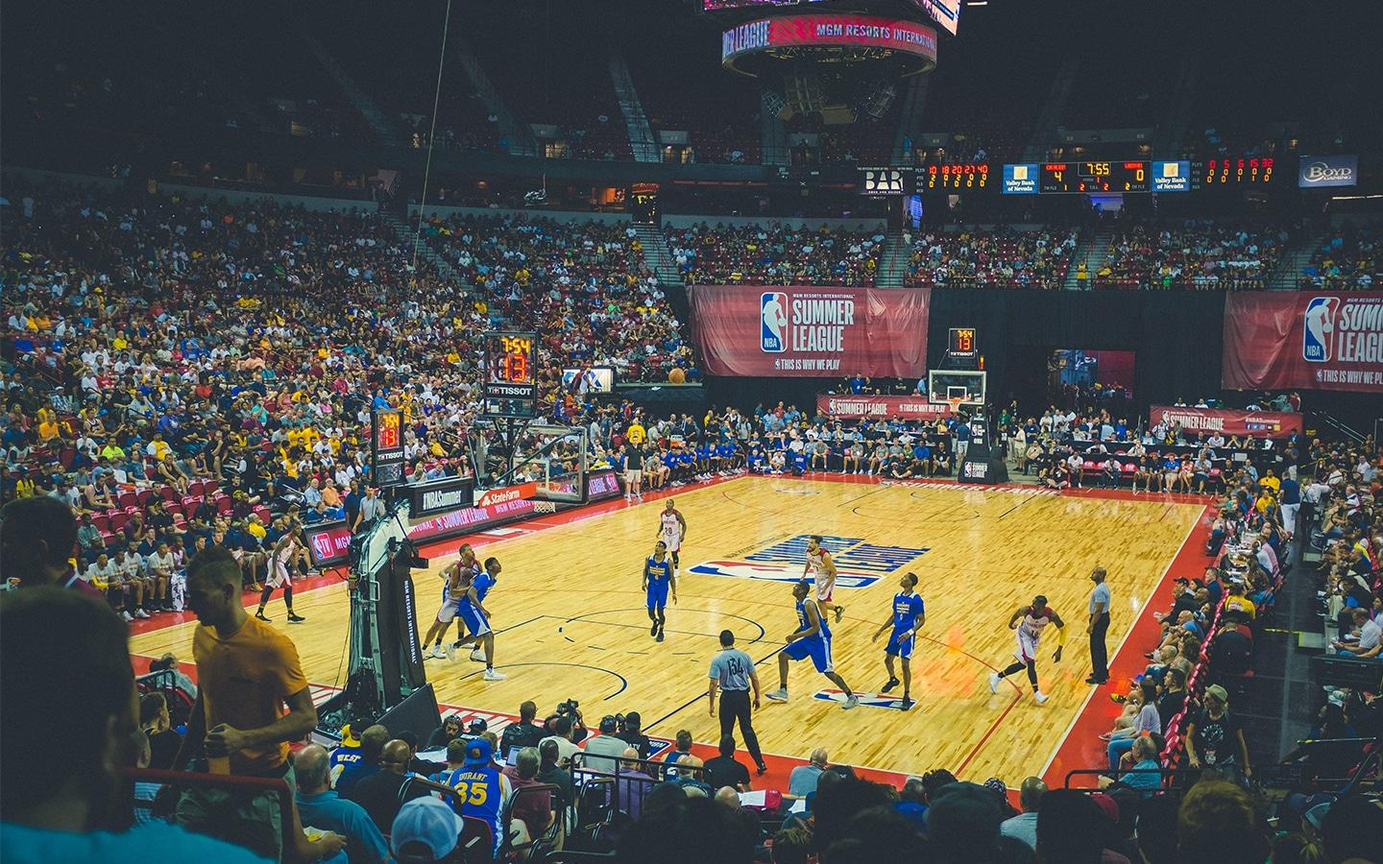basketball: (668, 367, 683, 388)
